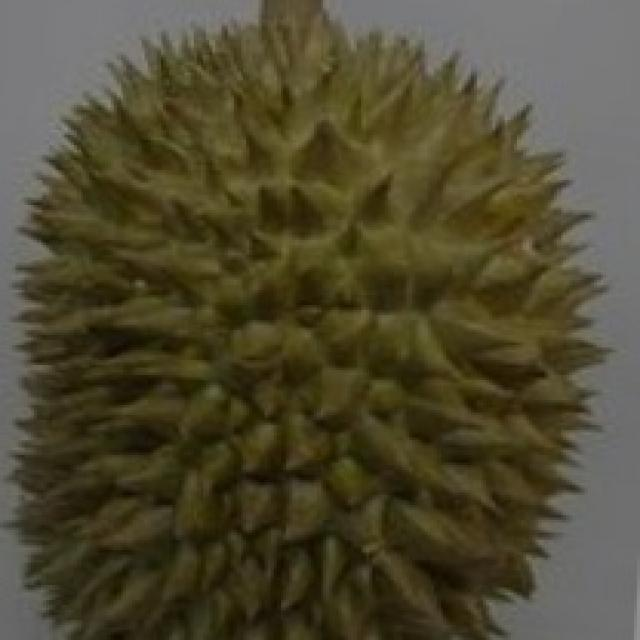fruit: (252, 238, 640, 638), (0, 0, 348, 415), (0, 272, 351, 640)
